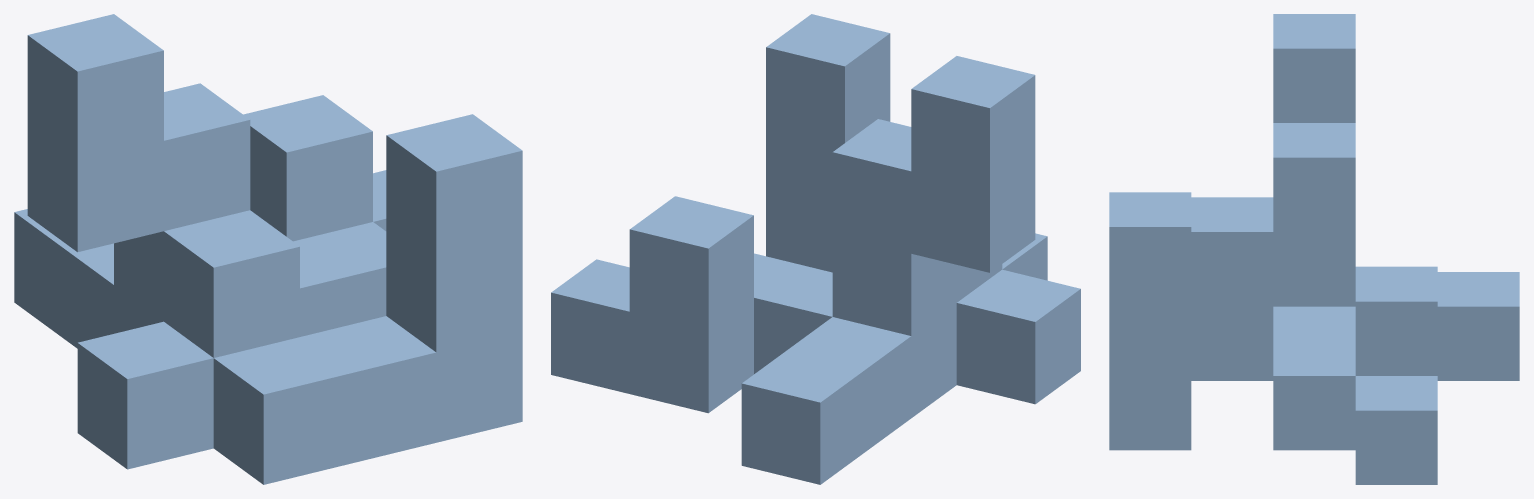
3 renders of one model, left to right at view 1: azimuth 30°, elevation 25°; view 2: azimuth 150°, elevation 25°; view 3: azimuth 270°, elevation 25°, orthographic. The views are drawn at different scales.
Parts seen in each view (by area): view 1: _changes (2).010; view 2: _changes (2).010; view 3: _changes (2).010.
Part boxes in pixels (left/top/right/bottom): _changes (2).010: left=14, top=14, right=522, bottom=484; _changes (2).010: left=551, top=14, right=1080, bottom=484; _changes (2).010: left=1109, top=14, right=1519, bottom=484.
Size of the model in its own units: 0.1999 by 0.1599 by 0.1999.
